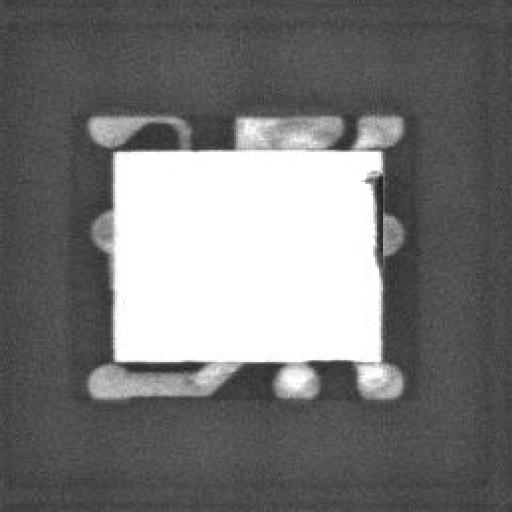DIE_BROKEN: (361, 163, 385, 275)
